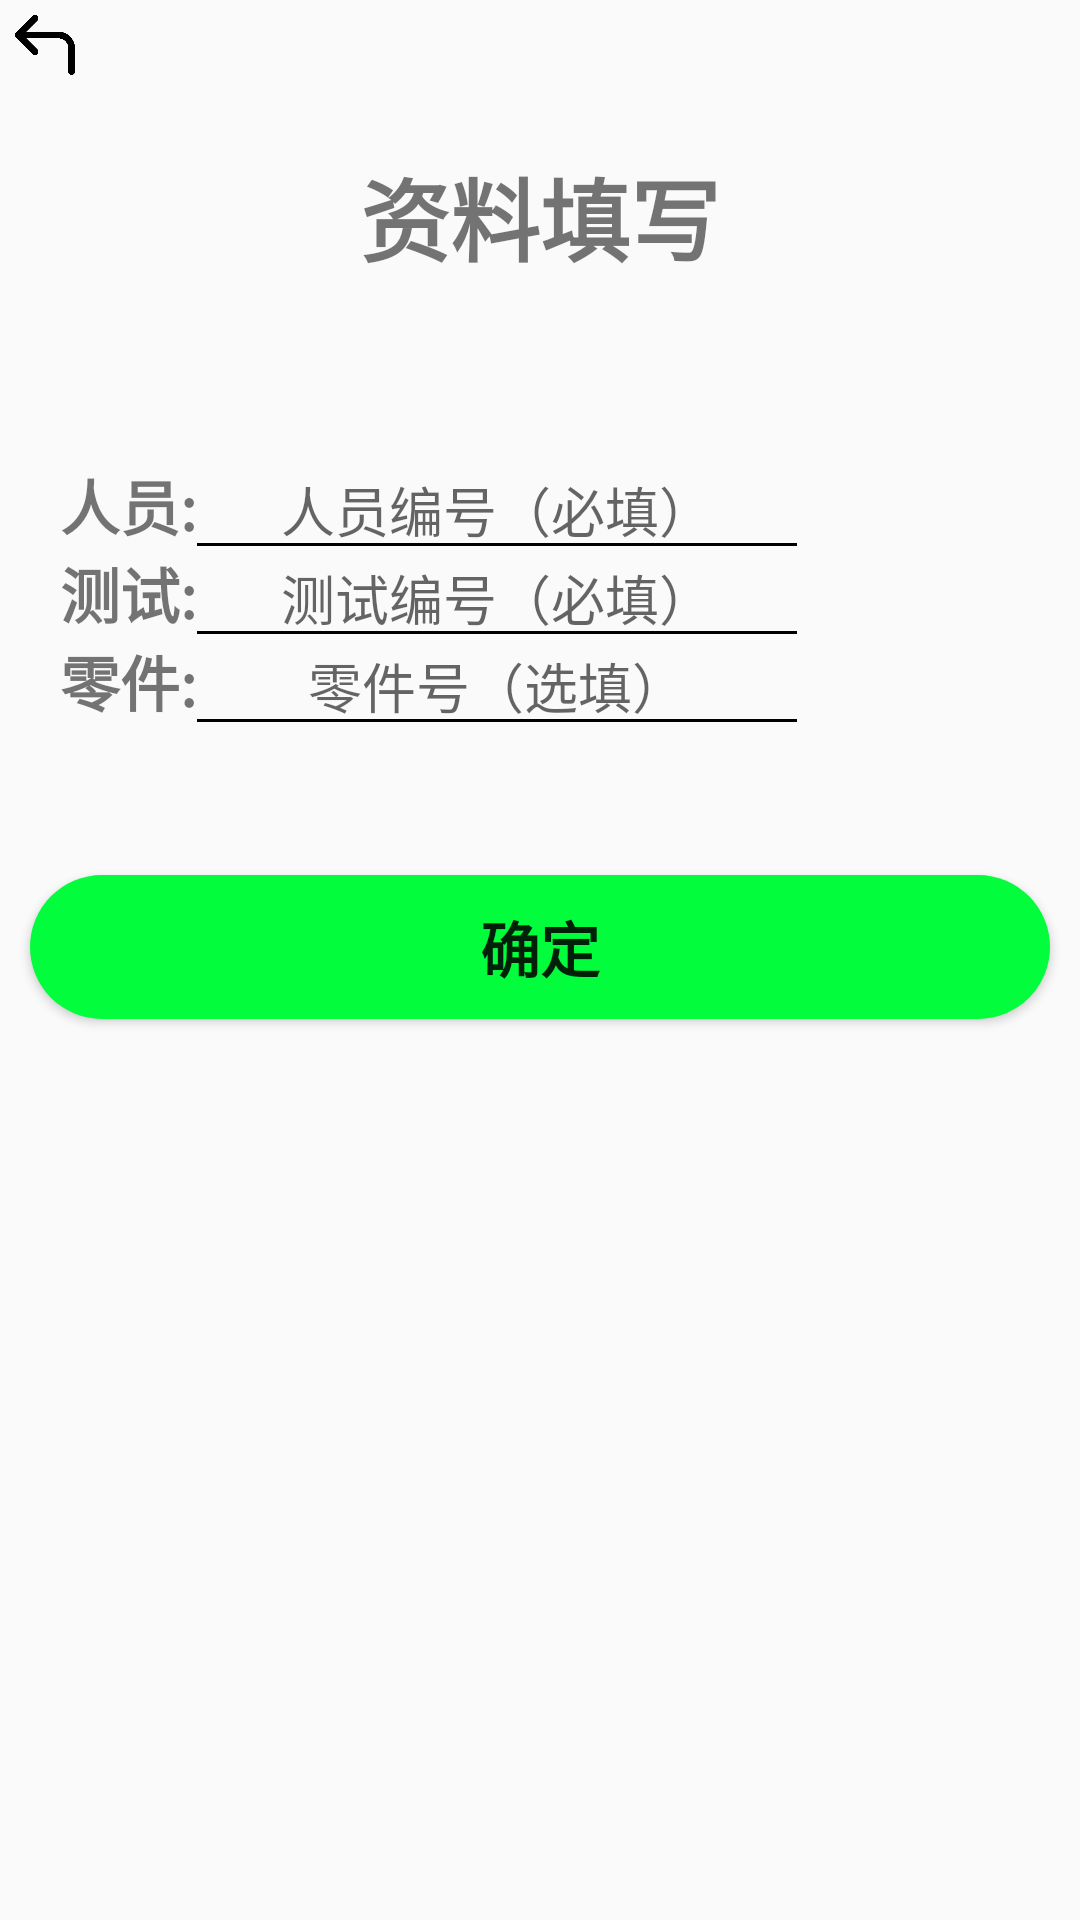

Named icons in this screenshot (1080w x 1920h) and their centers, (x,y):
back: (45,45)
